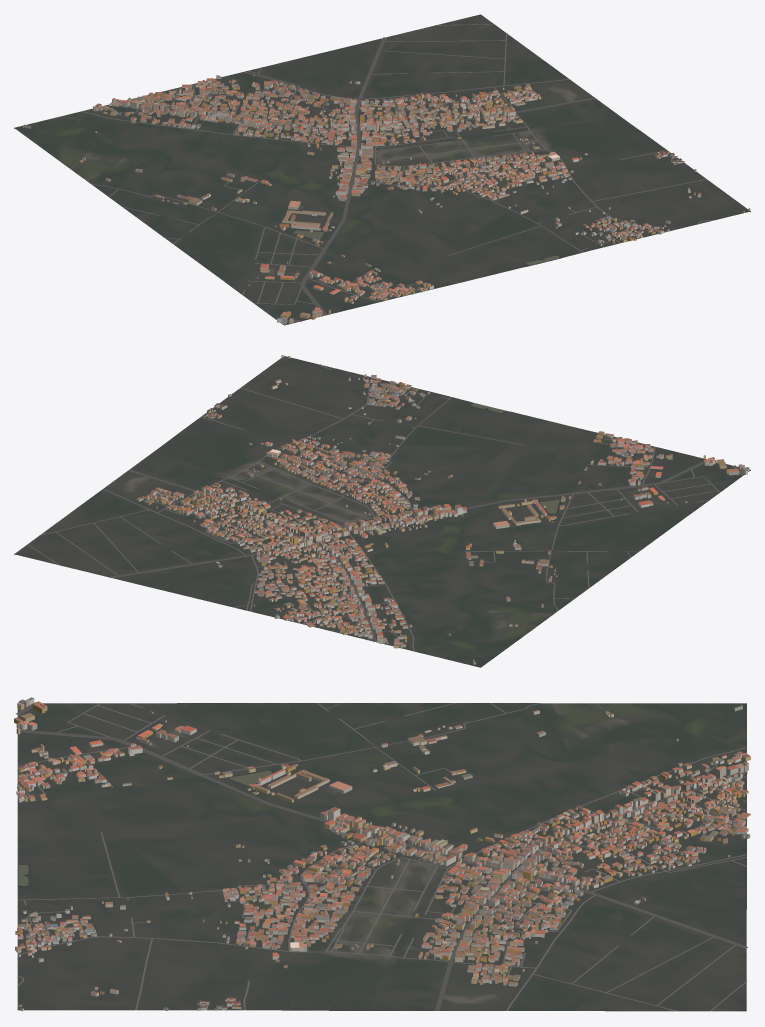
3 views of the same model, one above another, from view 1: azimuth 30°, elevation 25°; view 2: azimuth 150°, elevation 25°; view 3: azimuth 270°, elevation 25° (orthographic). The views are drawn at different scales.
Parts seen in each view (by area): view 1: ground, buildings, roads; view 2: ground, buildings, roads; view 3: ground, buildings, roads, water.
Boxes of the visible parts, <box> form: ground: <box>14,14,750,325</box>; buildings: <box>23,74,750,324</box>; roads: <box>70,24,714,321</box>; ground: <box>14,356,750,667</box>; buildings: <box>136,355,749,664</box>; roads: <box>27,364,745,651</box>; ground: <box>17,703,746,1011</box>; buildings: <box>14,697,750,1011</box>; roads: <box>16,702,747,1011</box>; water: <box>18,770,272,885</box>.
Size of the model in its own units: 1408 by 23.71 by 1417.
